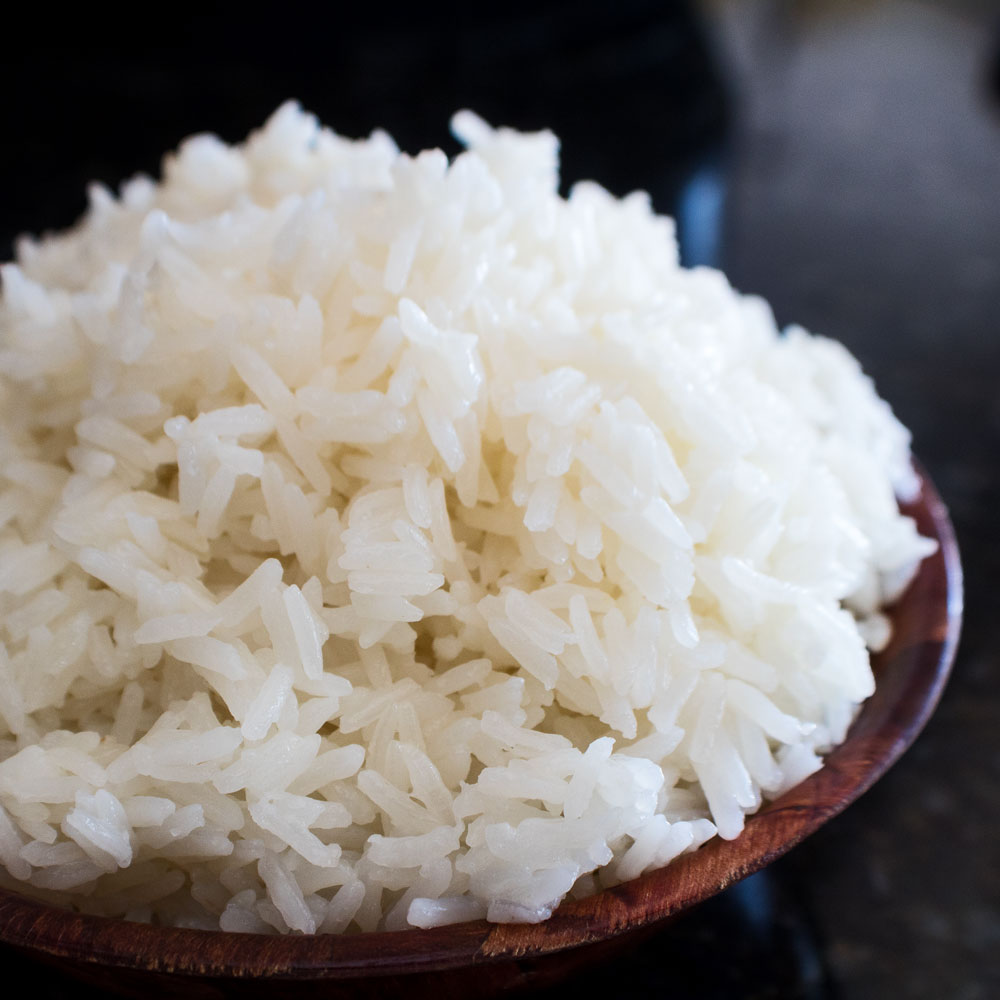rice: (13, 91, 933, 927)
